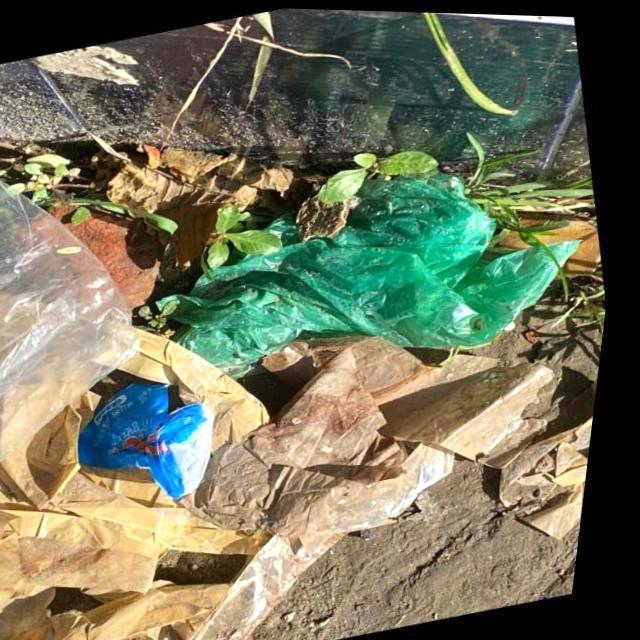polythene: (131, 135, 582, 408), (0, 132, 170, 460), (65, 369, 241, 517)
